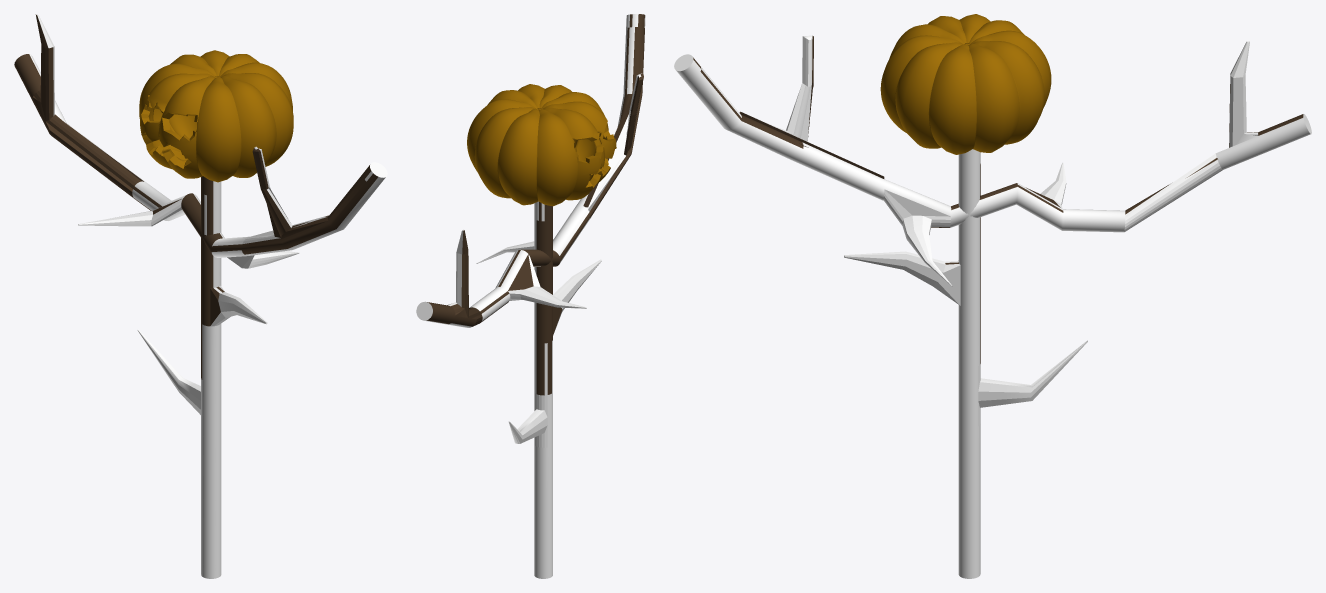
Rendered from PumpkinScarecrow.fbx.
The picture shows the model from 3 angles, left to right: view 1: azimuth 30°, elevation 25°; view 2: azimuth 150°, elevation 25°; view 3: azimuth 270°, elevation 25°; orthographic projection. The views are drawn at different scales.
Visible parts, largest first — view 1: PUMKING:pSphere2; view 2: PUMKING:pSphere2; view 3: PUMKING:pSphere2.
Boxes of the visible parts, x1=… form: PUMKING:pSphere2: x1=14, y1=14, x2=387, y2=578; PUMKING:pSphere2: x1=416, y1=14, x2=645, y2=578; PUMKING:pSphere2: x1=674, y1=14, x2=1311, y2=578.
Size of the model in its own units: 489 by 1391 by 1484.
